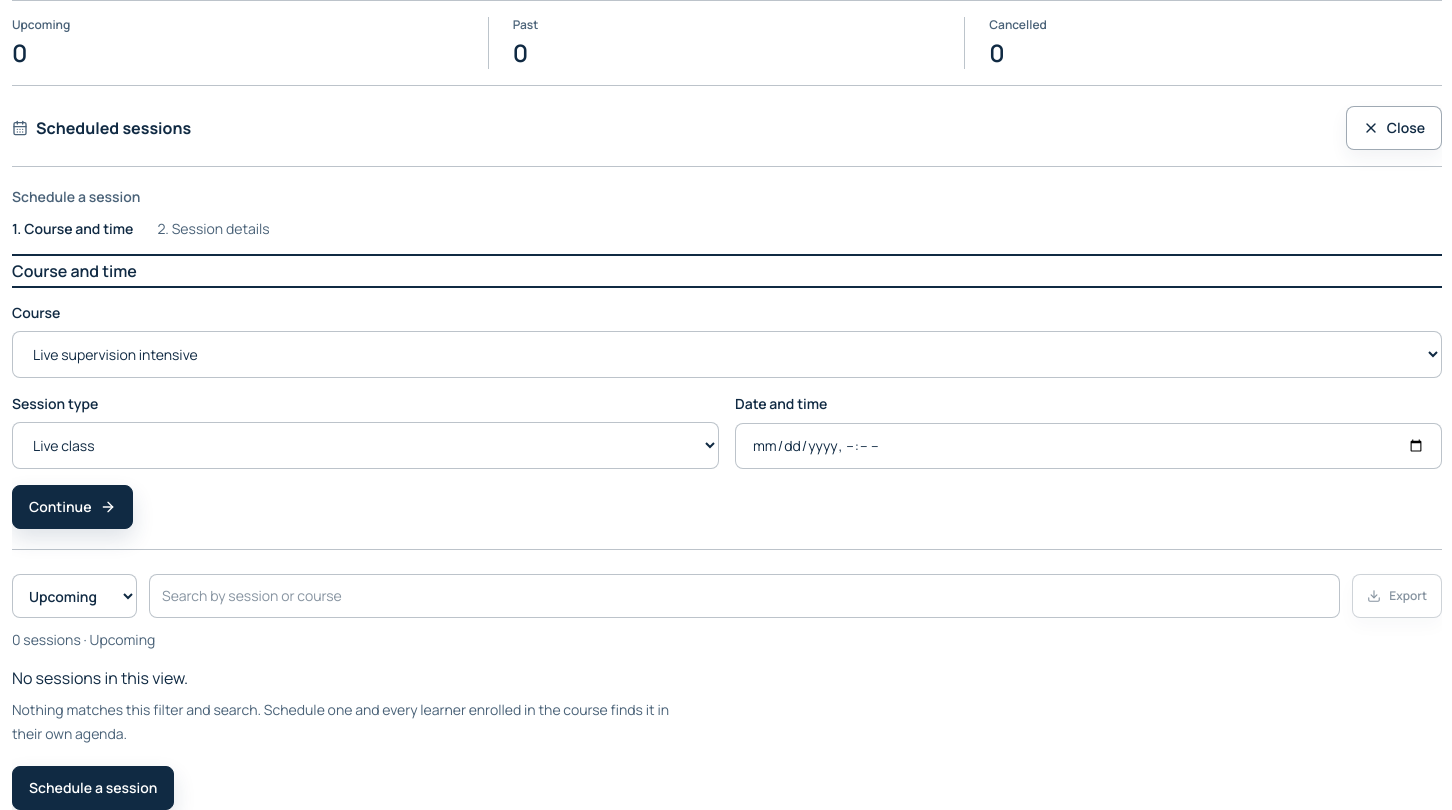
Scenario: TeacherEventStudio › produto que ja tem aula: o proximo passo e so preco e publicar
In the field labelled "Date and time": (1088, 446) [735,422,1442,469], type "2027-03-14T15:30"
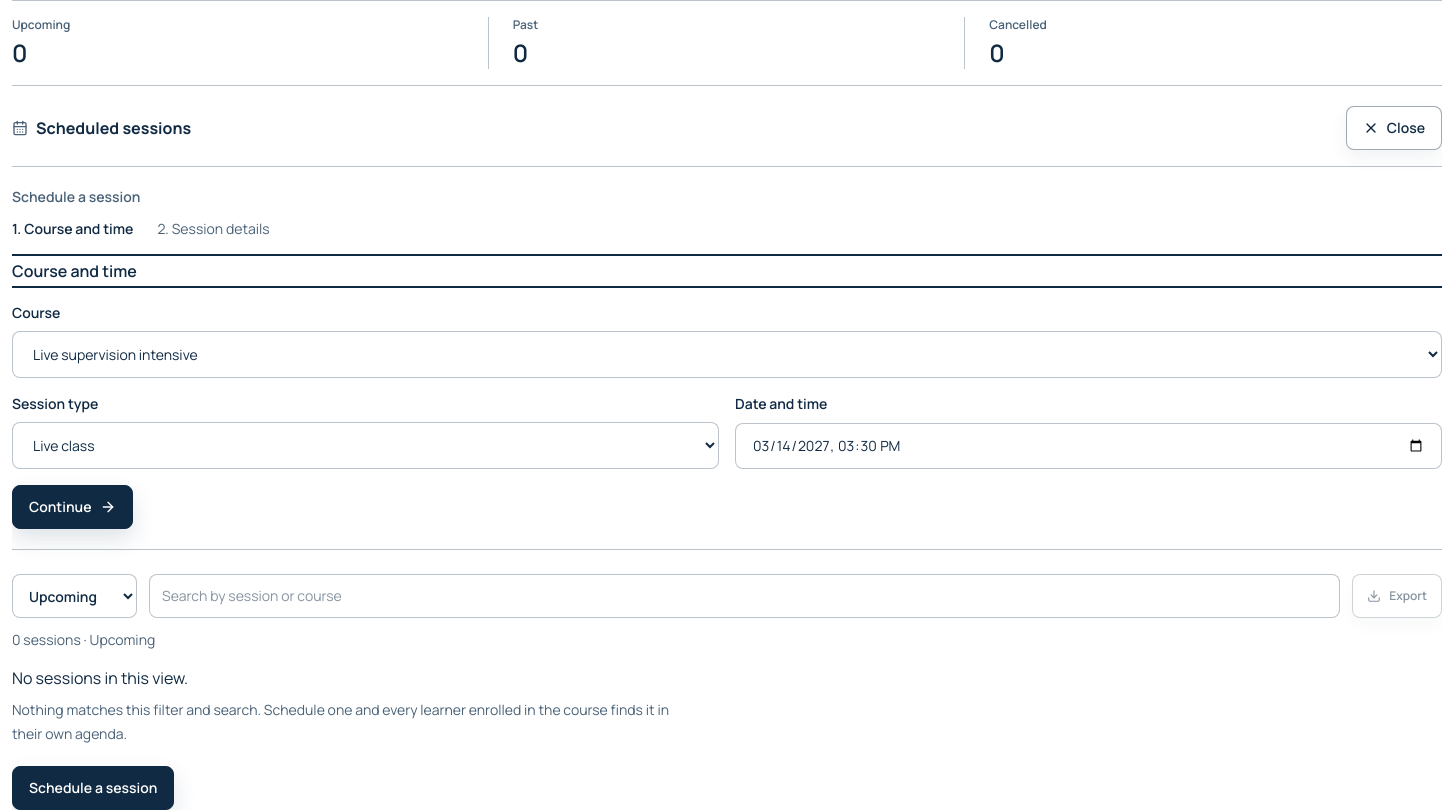
Click the button "Continue": (72, 507) [12,485,133,529]
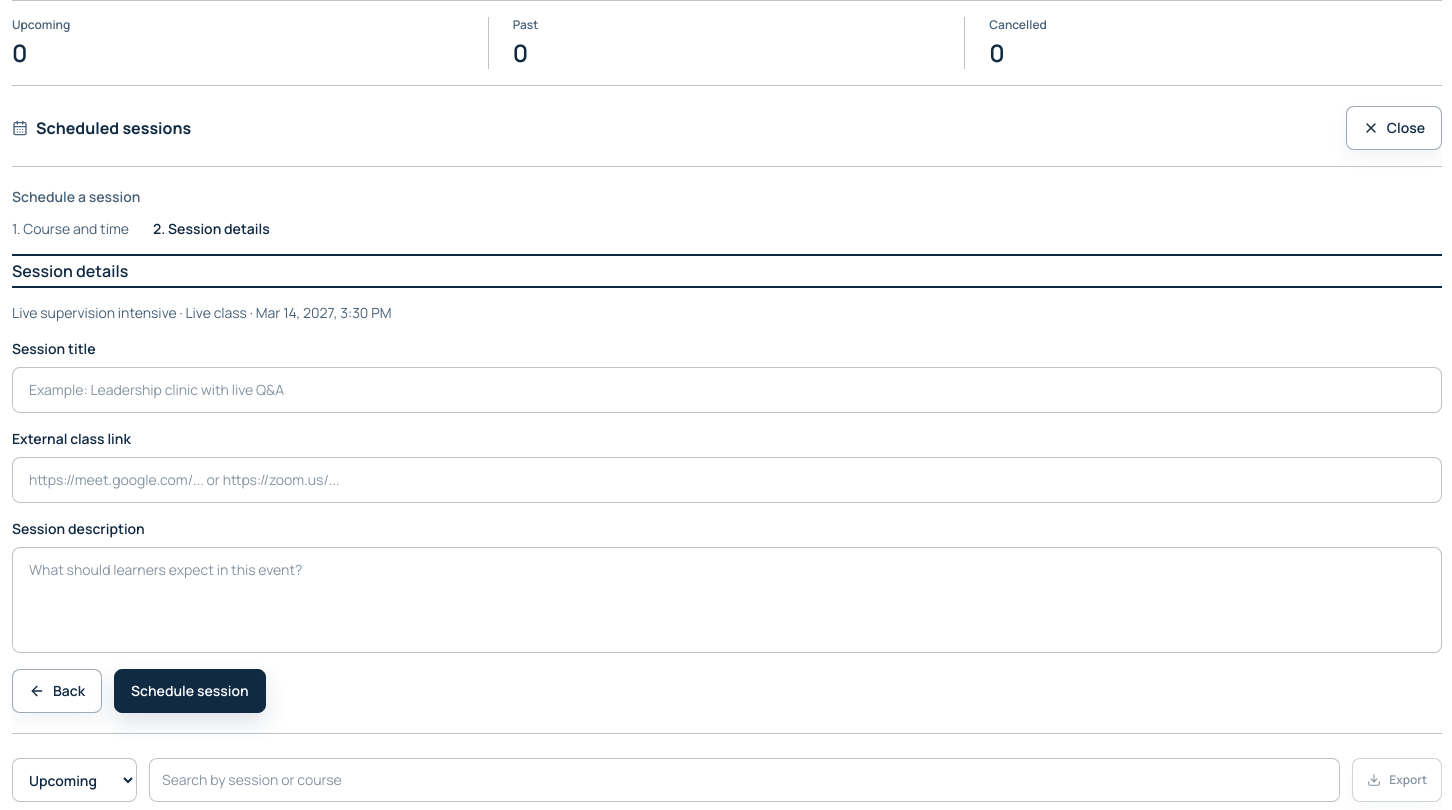
In the field labelled "Session title": (727, 390) [12,367,1442,413], type "Live workshop"
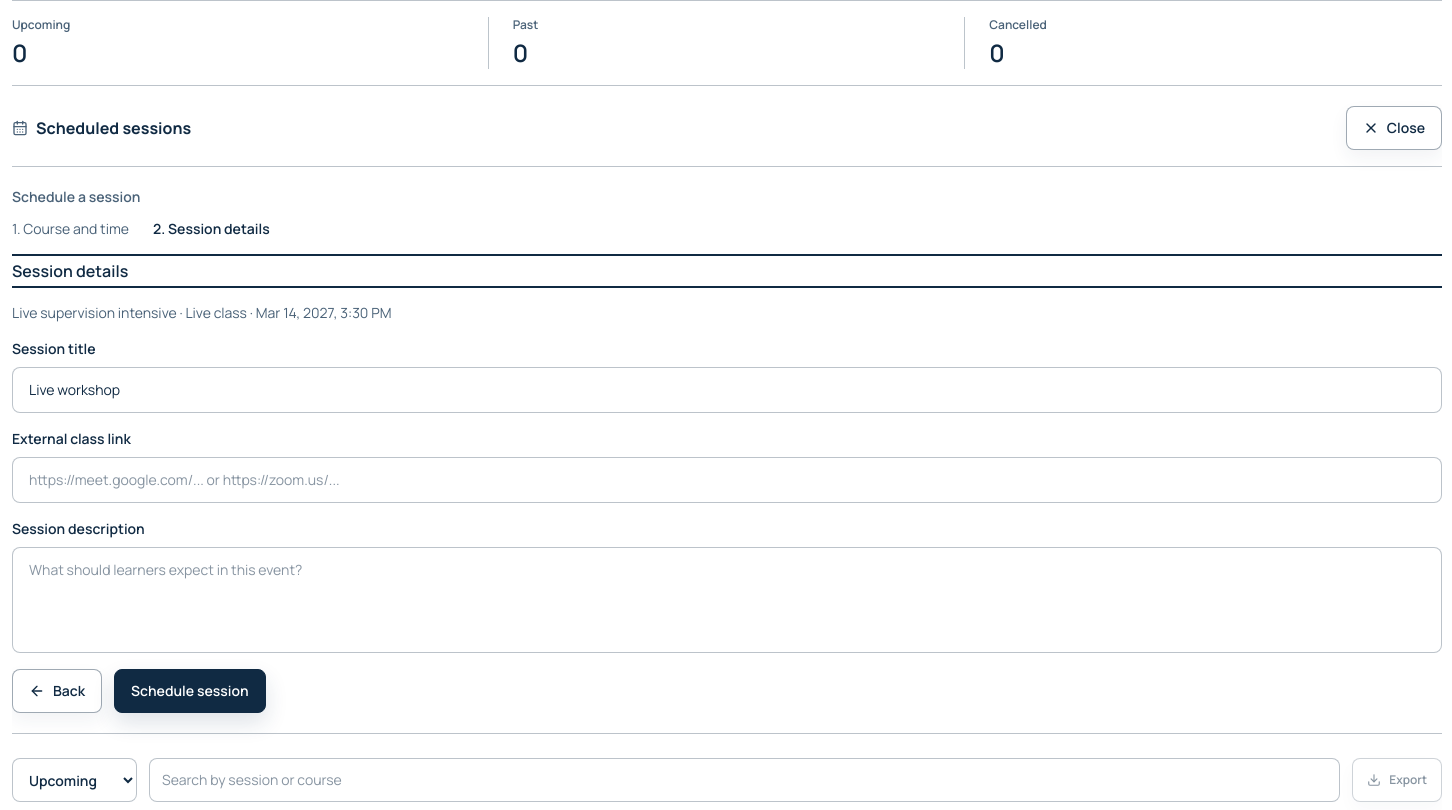
In the field labelled "External class link": (727, 480) [12,457,1442,503], type "https://meet.example.com/live"
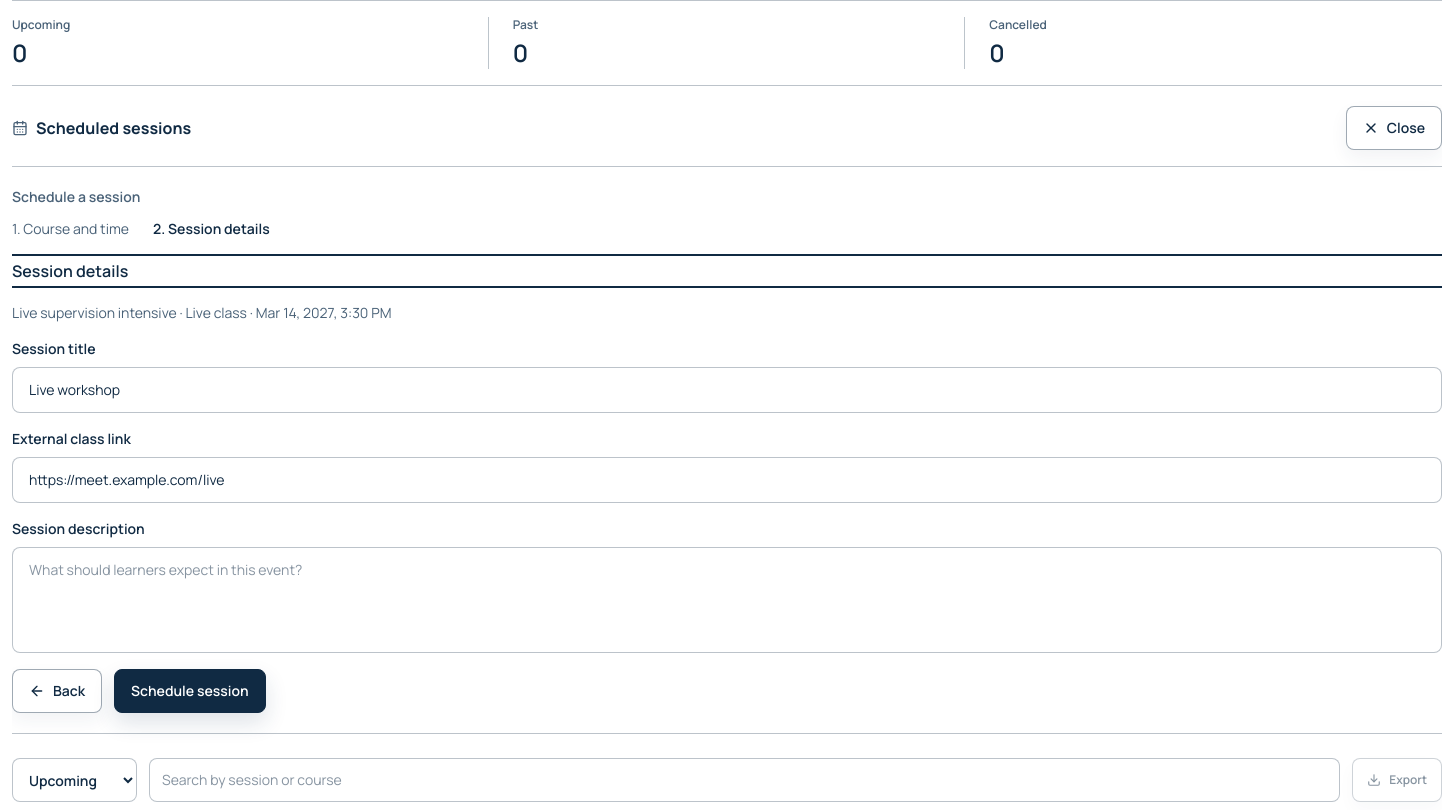
In the text box labelled "Session description": (727, 600) [12,547,1442,653], type "Practical exercises together."
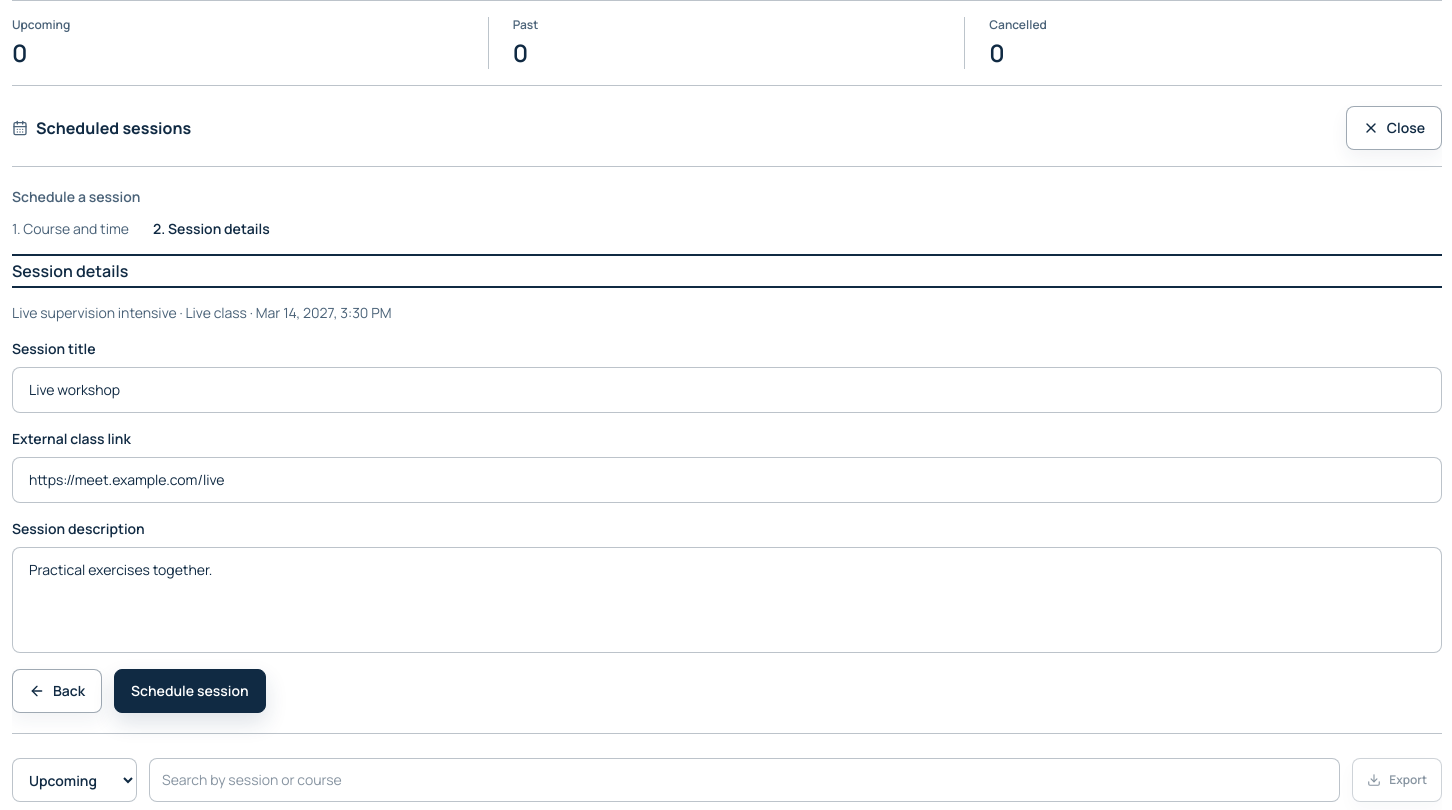
Click the button "Schedule session": (190, 691) [114,669,266,713]
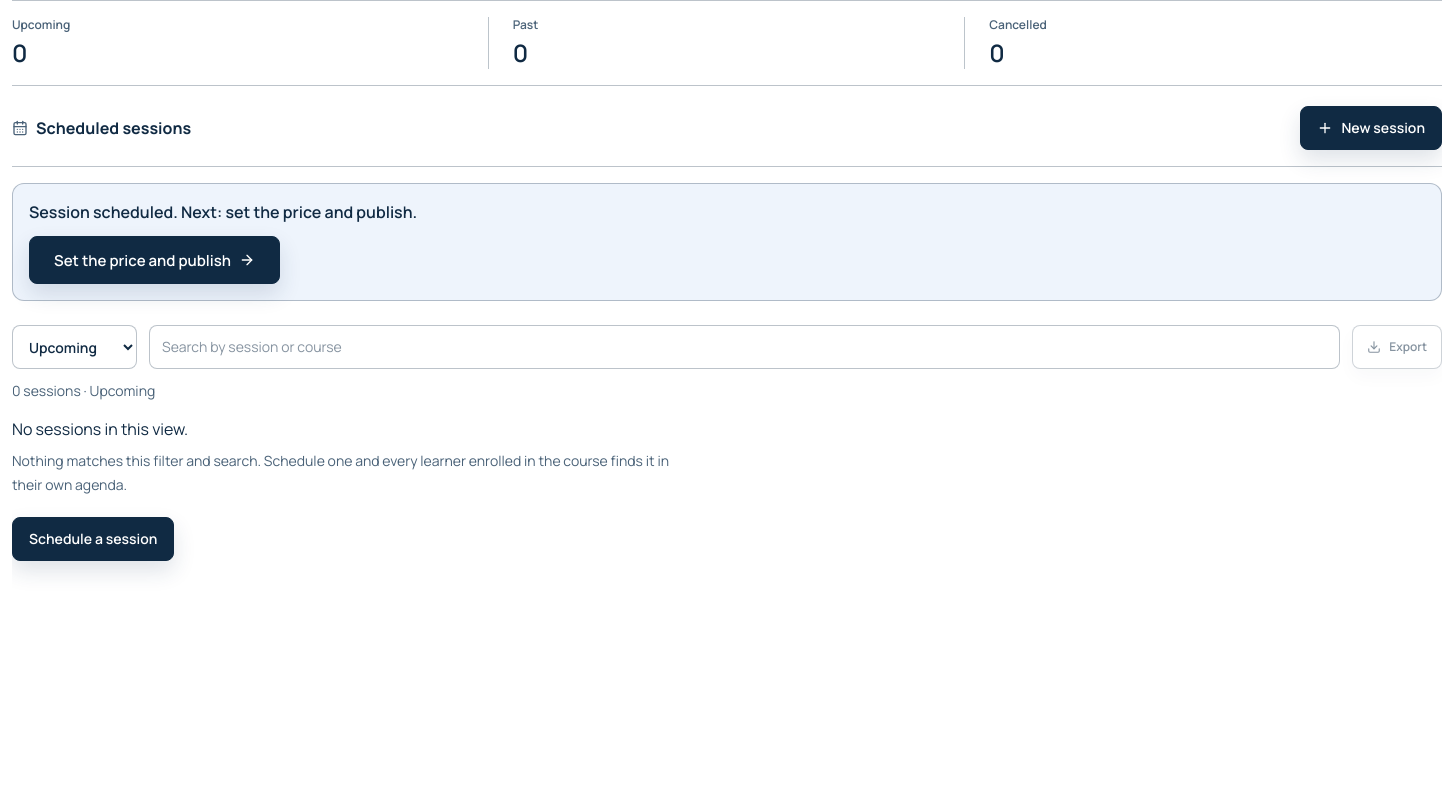
expect the link "Set the price and publish" is shown: met, box [29,236,280,284]
